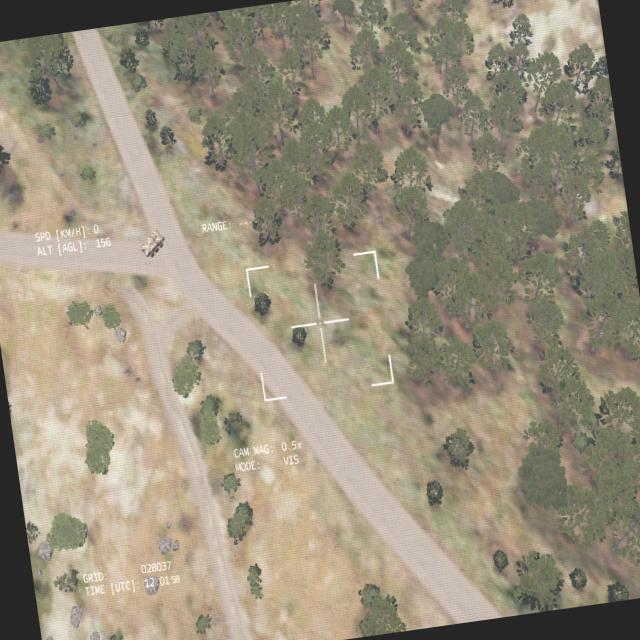apc: (135, 226, 167, 261)
